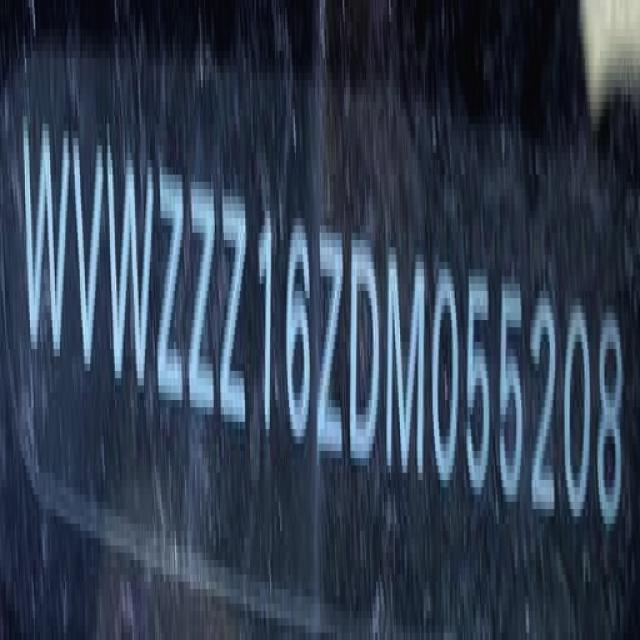0: (564, 296, 594, 528), (433, 261, 460, 496)
1: (256, 183, 276, 445)
2: (530, 282, 559, 518)
5: (466, 263, 494, 503), (500, 267, 527, 512)
6: (286, 205, 314, 454)
8: (600, 307, 626, 532)
D: (348, 218, 382, 472)
M: (386, 241, 428, 487)
V: (72, 140, 106, 377)
W: (19, 110, 72, 361), (111, 142, 154, 402)
Z: (219, 183, 248, 439), (316, 212, 345, 468), (190, 165, 218, 428), (160, 161, 186, 414)
